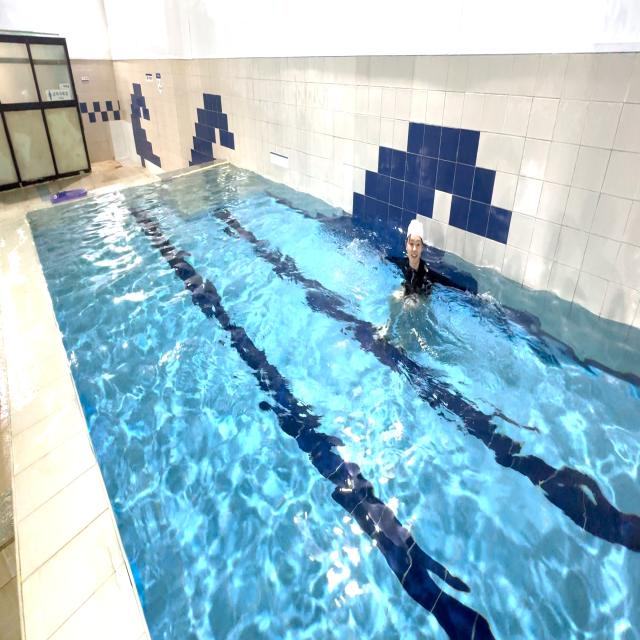Swimming: (371, 220, 480, 351)
